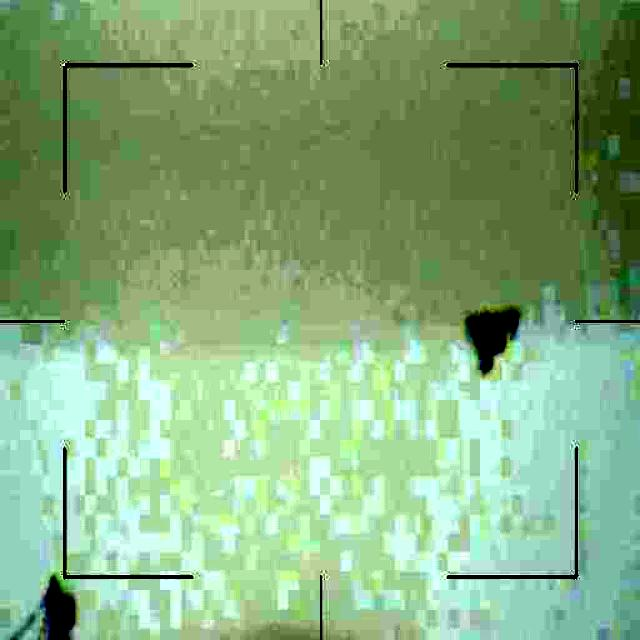bird: (460, 305, 529, 376)
